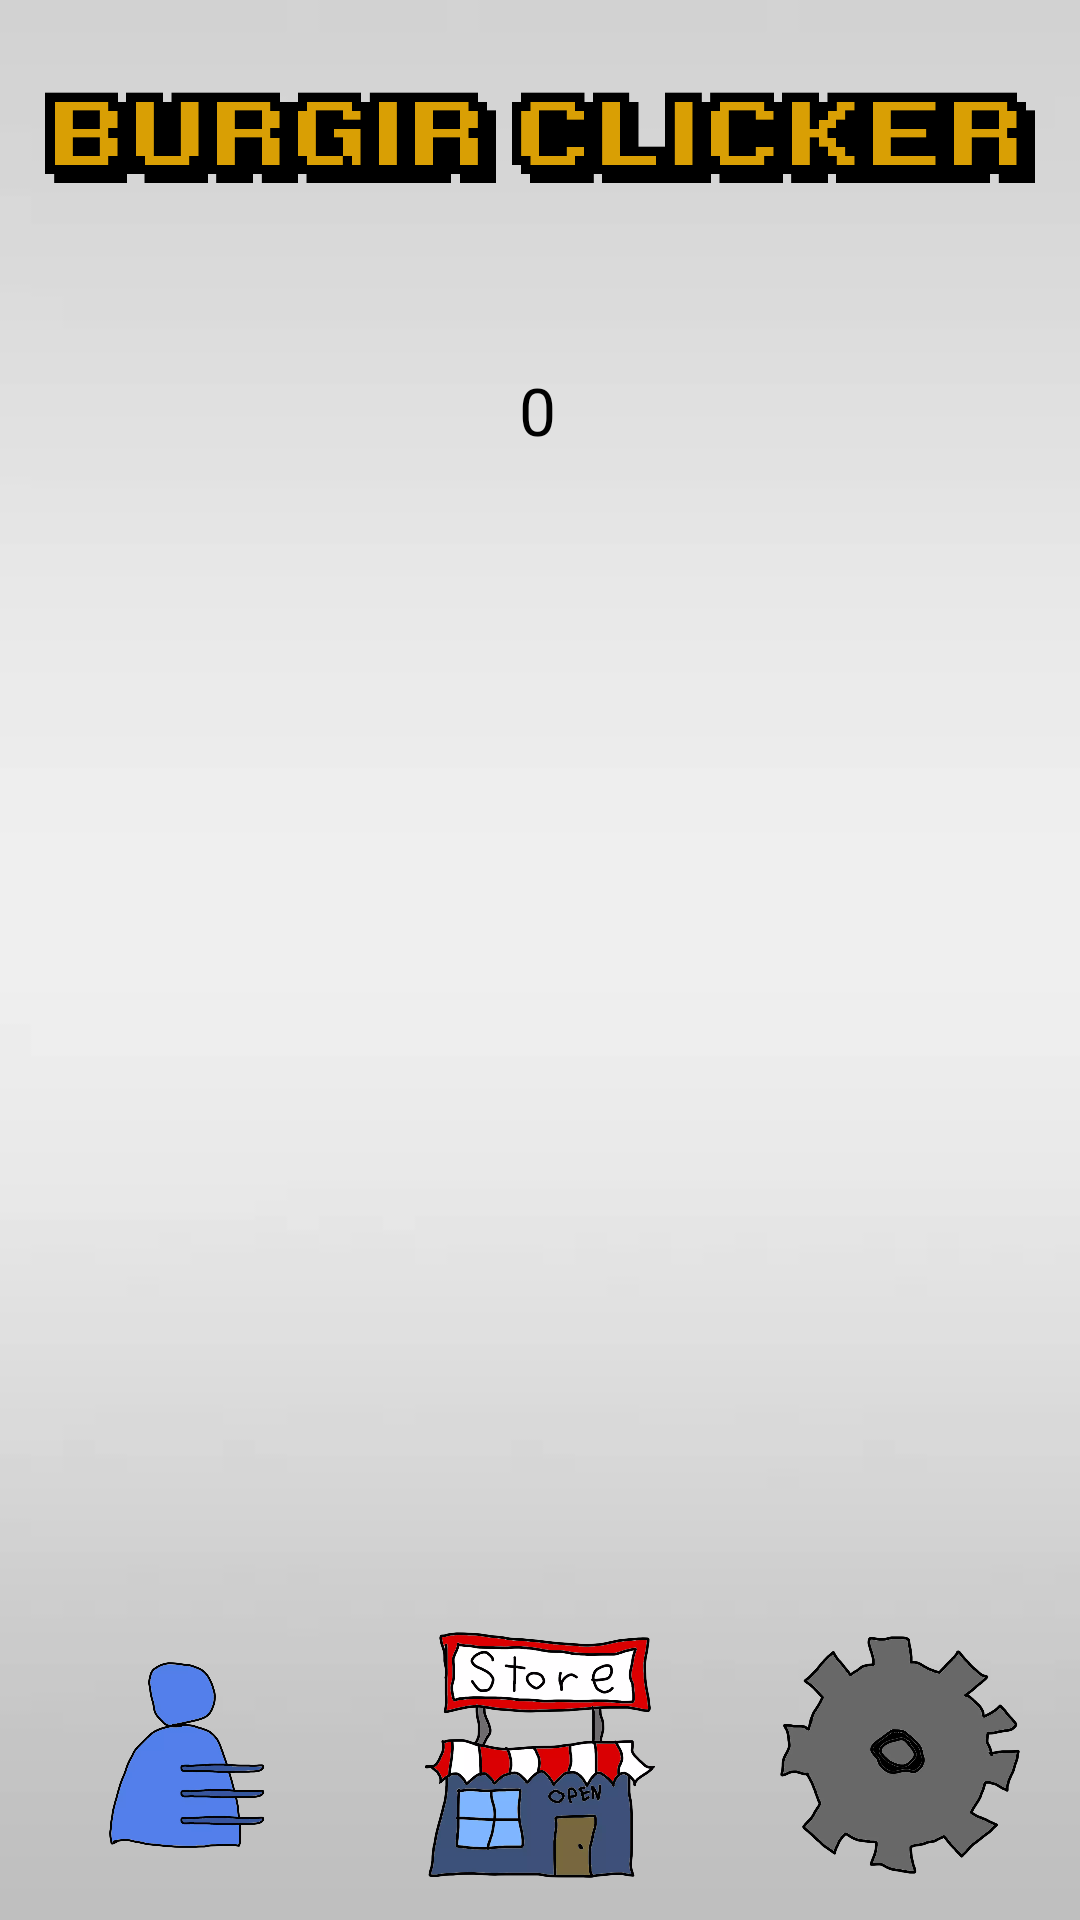

Screen size 1080w x 1920h. Icon name, then its center in pixels as point (x, y):
career: point (186, 1755)
options: point (900, 1755)
